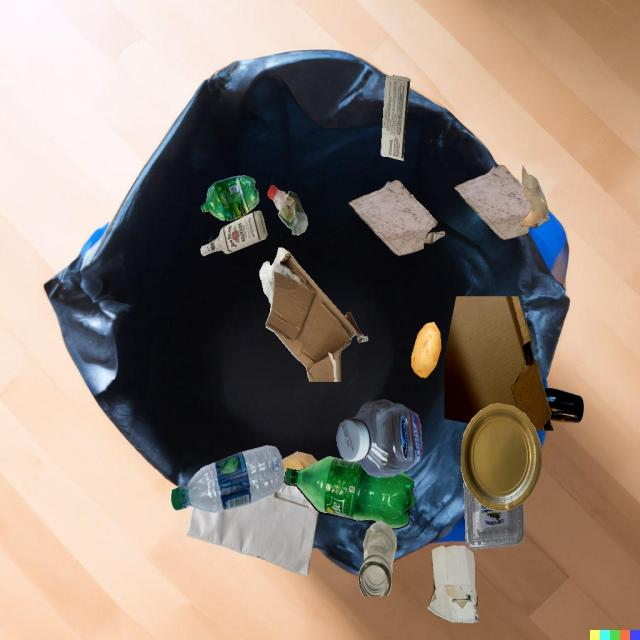biowaste: (411, 322, 441, 378), (282, 452, 318, 471)
cardboard: (259, 248, 368, 382), (444, 296, 553, 430), (428, 545, 480, 623)
glass: (200, 211, 267, 256), (358, 522, 397, 597), (520, 165, 549, 227), (544, 388, 584, 423)
paper: (187, 471, 319, 576), (461, 403, 542, 511), (348, 180, 445, 256), (454, 165, 550, 240), (381, 75, 410, 161)
plastic: (284, 456, 415, 529), (171, 445, 284, 513), (336, 399, 422, 478), (463, 481, 524, 550), (201, 175, 259, 220), (267, 185, 307, 235)
